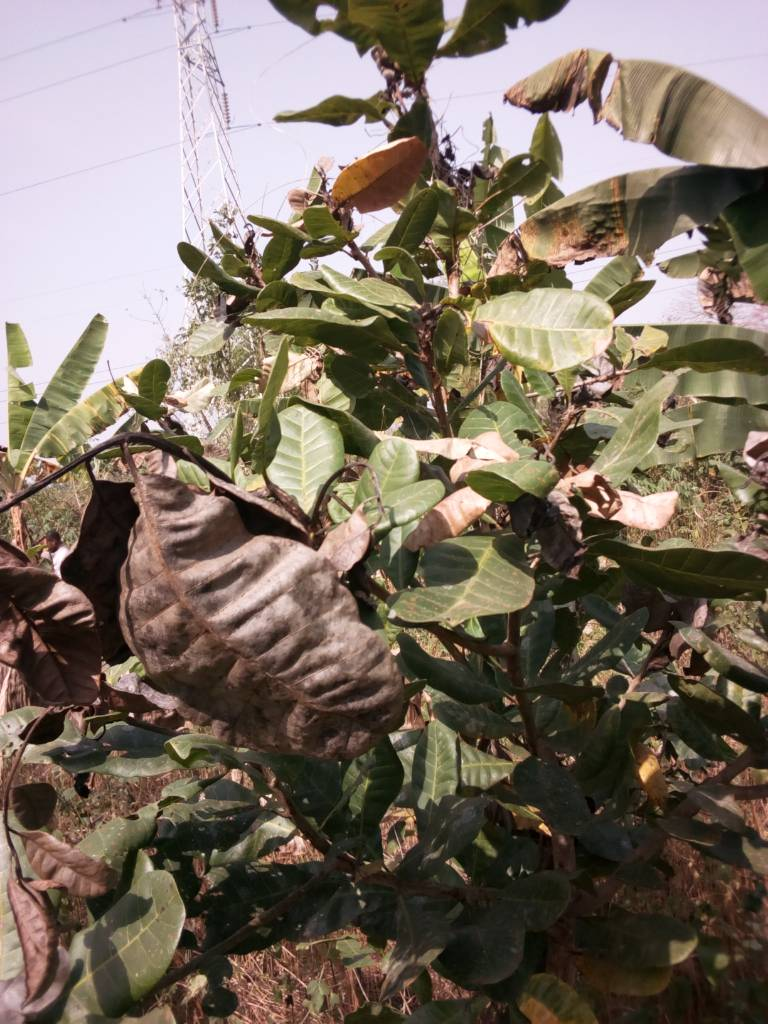Dessèchement des bourgeons: (4, 775, 108, 1024)
